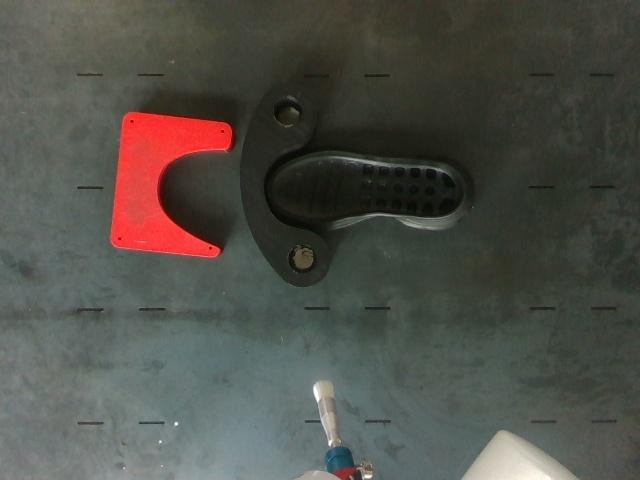shoes: (268, 154, 463, 221)
